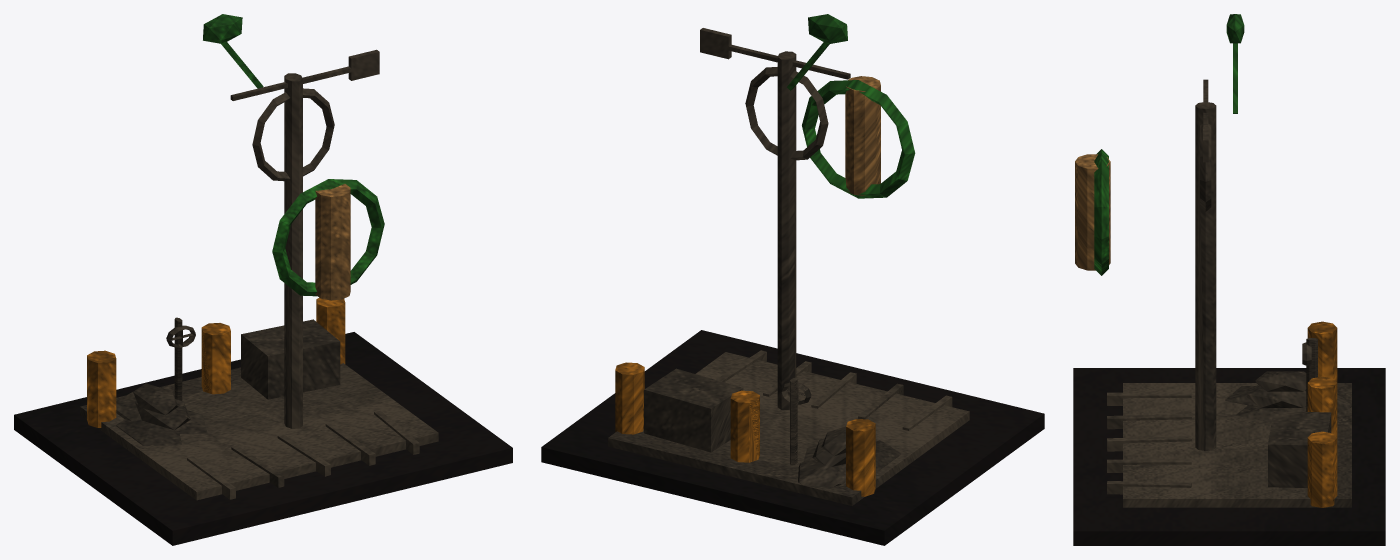
File: west-seed-vault.glb
The picture shows the model from 3 angles, left to right: view 1: azimuth 30°, elevation 25°; view 2: azimuth 150°, elevation 25°; view 3: azimuth 270°, elevation 25°; orthographic projection. The views are drawn at different scales.
Parts seen in each view (by area): view 1: west-seed-vault; view 2: west-seed-vault; view 3: west-seed-vault.
Part boxes in pixels (bbox=[...]): west-seed-vault: bbox=[14, 14, 512, 545]; west-seed-vault: bbox=[541, 14, 1044, 545]; west-seed-vault: bbox=[1073, 14, 1385, 545].
Bounding box in the file's own units: 5.2 × 6.42 × 4.2.
1 material, 1 textured.
